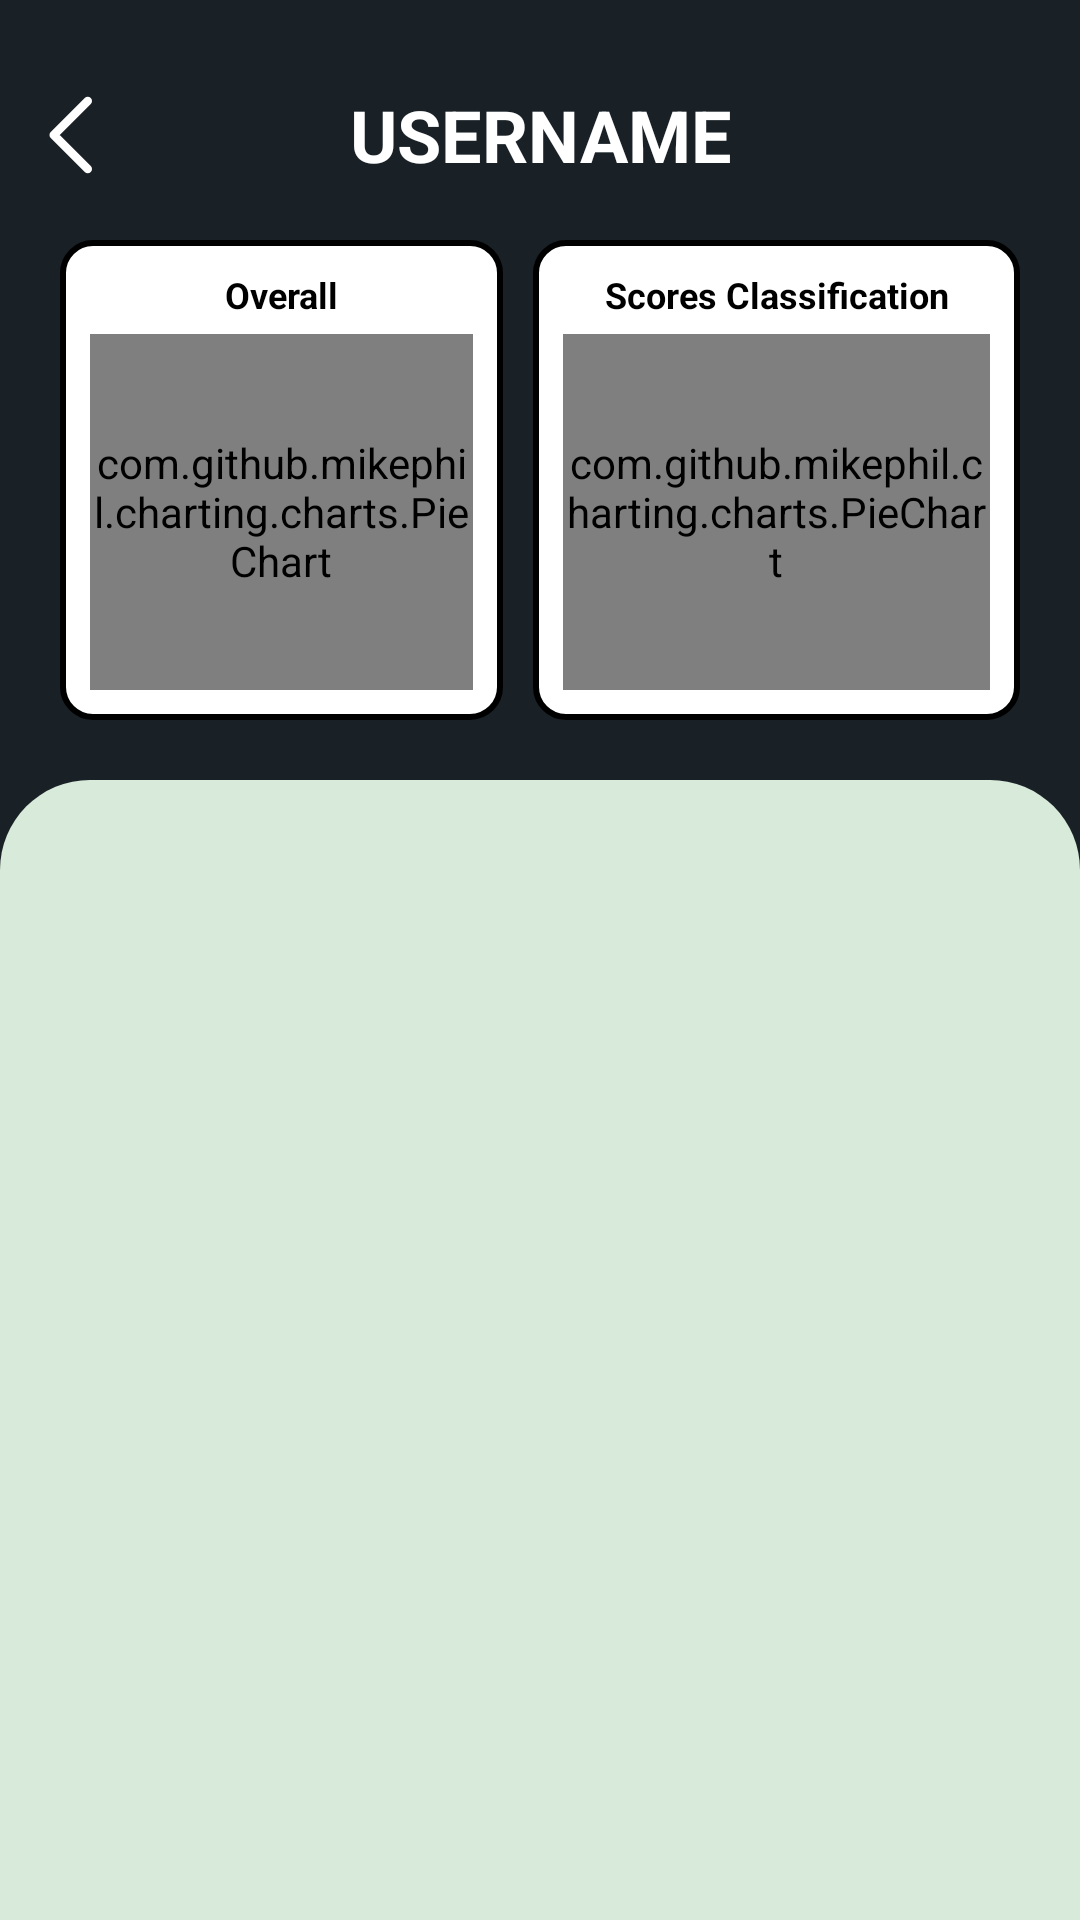

Named icons in this screenshot (1080px×1920px) and their bounding boxes, BBox(x1, y1, x2, y2):
Back: BBox(49, 96, 92, 174)
